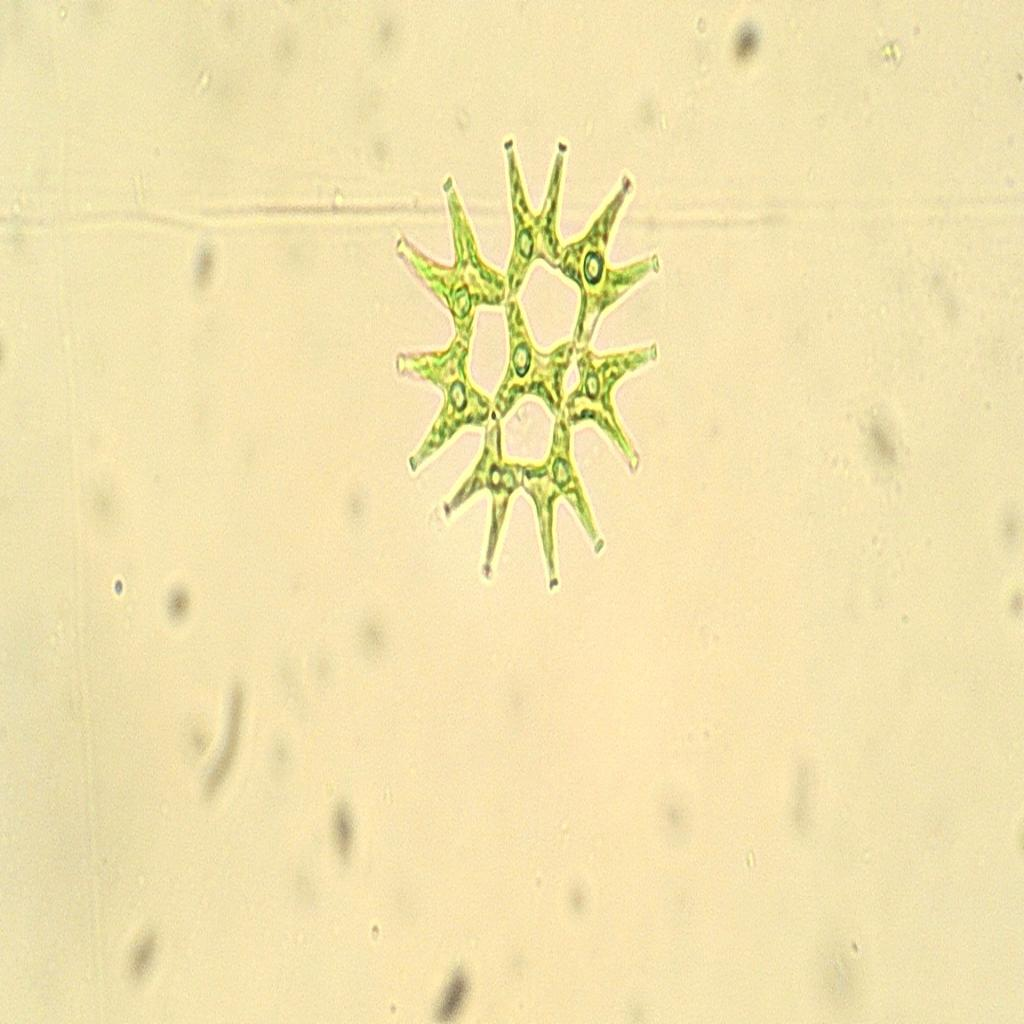Pediastrum_CTH: (388, 127, 670, 617)
